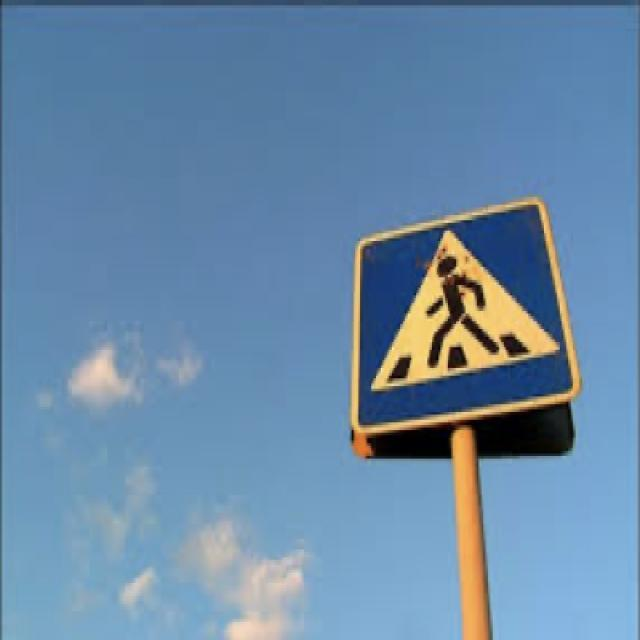crosswalk_sign: (349, 195, 576, 437)
